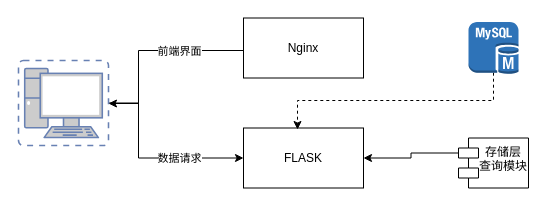
Some shapes in this 546 by 205 pixel diagram are drawn without their labels. The shapes that lost their labels are listed below. From the top down, each one's centre as x and y in pixels, then its label:
pixel 493 47: 用户配置信息
pixel 63 102: VUE
